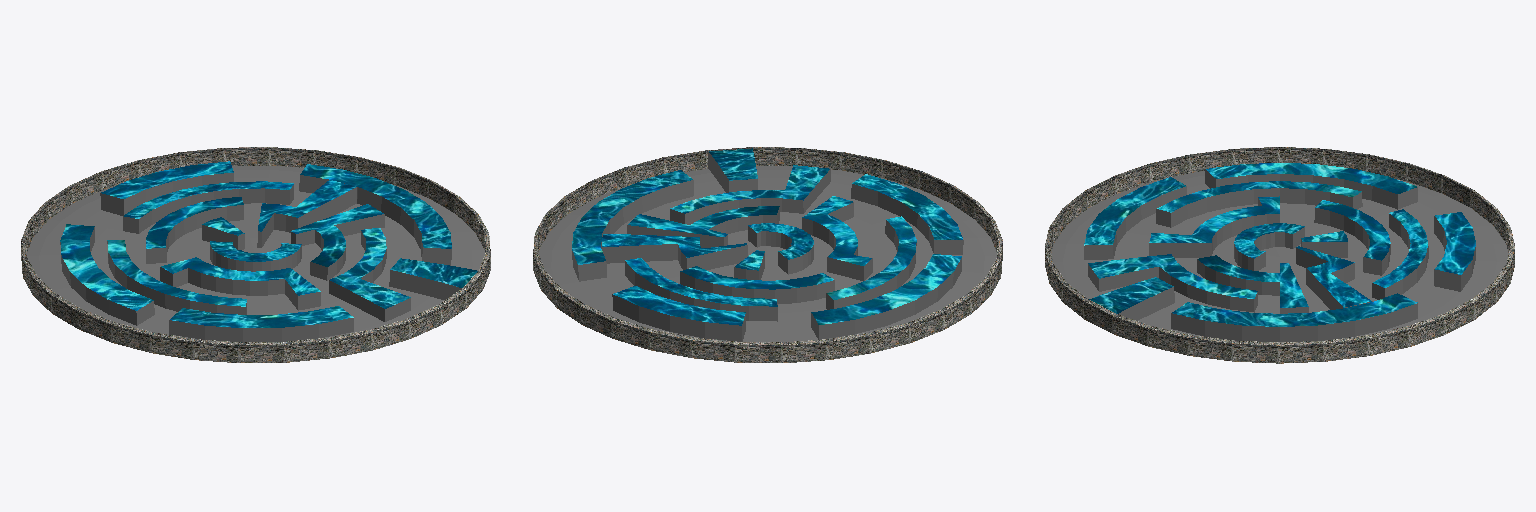
3 renders of one model, left to right at view 1: azimuth 30°, elevation 25°; view 2: azimuth 150°, elevation 25°; view 3: azimuth 270°, elevation 25°, orthographic.
Parts seen in each view (by area): view 1: Sphere; view 2: Sphere; view 3: Sphere.
Boxes of the visible parts, <box> form: Sphere: <box>21,147,490,362</box>; Sphere: <box>533,147,1002,362</box>; Sphere: <box>1045,147,1514,363</box>.
Bounding box in the file's own units: 10.49 × 0.7462 × 10.49.
Materials: 5 (2 with a texture image).